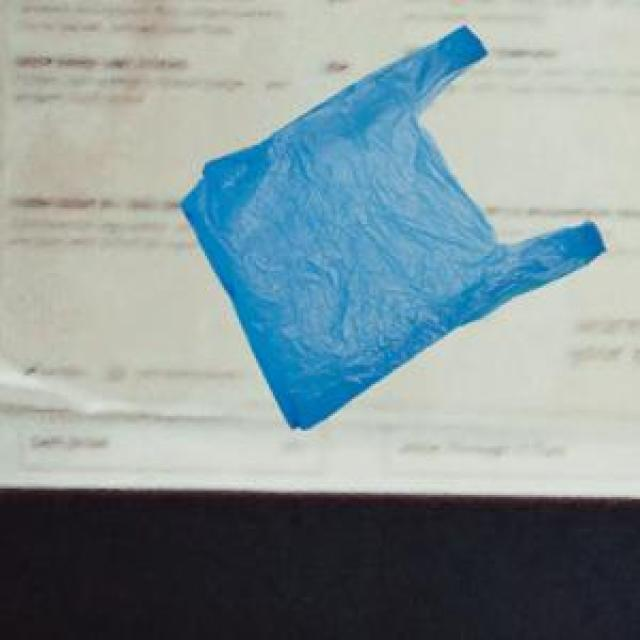waste: (181, 26, 605, 428)
